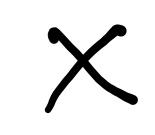mult: (44, 25, 138, 113)
